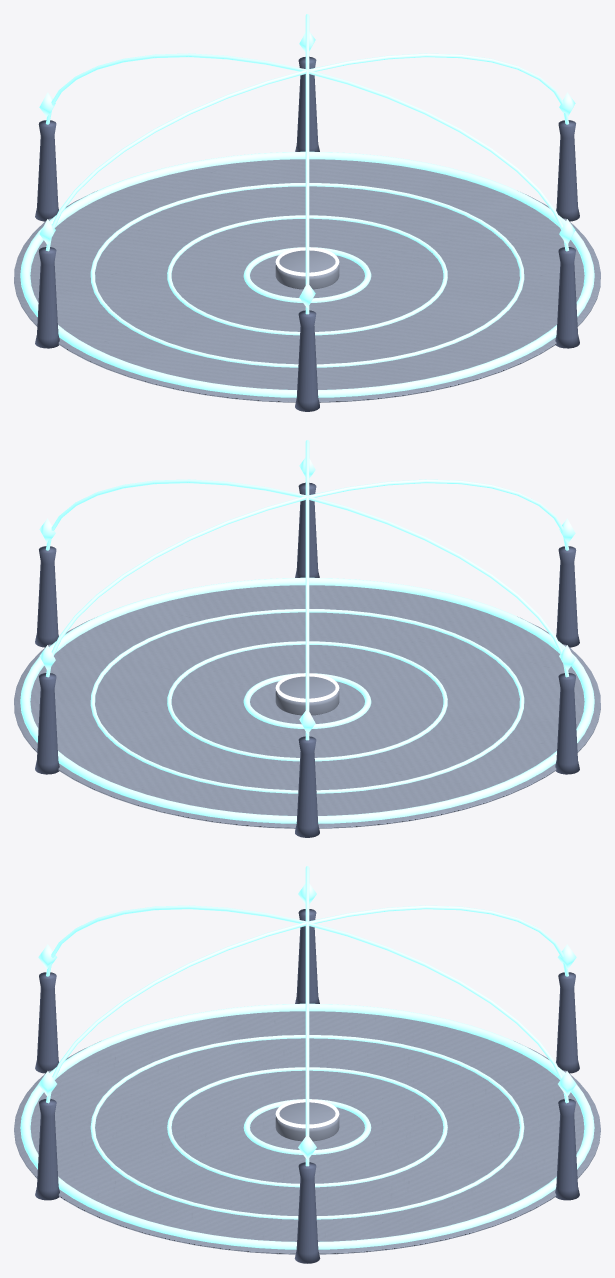
The model's file is Capture-Zone-Exact-Mesh-v2.0.0.glb.
3 renders of one model, top to bottom at view 1: azimuth 30°, elevation 25°; view 2: azimuth 150°, elevation 25°; view 3: azimuth 270°, elevation 25°, orthographic.
Parts seen in each view (by area): view 1: zoneDeck, zoneRing0, zoneRing1, zoneRing2, pylon1, pylon0, pylon2, pylon5, pylon3, receptor, pylon4, zoneRing3 (+6 smaller); view 2: zoneDeck, zoneRing0, zoneRing1, zoneRing2, pylon5, pylon0, pylon4, pylon1, pylon3, receptor, pylon2, zoneRing3 (+6 smaller); view 3: zoneDeck, zoneRing0, zoneRing1, zoneRing2, pylon3, pylon2, pylon4, pylon1, pylon5, receptor, pylon0, zoneRing3 (+6 smaller).
Part boxes in pixels (x1,y1,x2,y2): zoneDeck: (14,159,600,402); zoneRing0: (20,151,594,397); zoneRing1: (90,183,524,367); zoneRing2: (167,215,447,335); pylon1: (295,310,319,411); pylon0: (35,247,59,348); pylon2: (555,247,579,348); pylon5: (35,120,58,221); pylon3: (556,120,579,221); receptor: (275,250,339,289); pylon4: (295,56,319,151); zoneRing3: (243,247,371,302); zoneDeck: (14,585,600,828); zoneRing0: (20,577,594,823); zoneRing1: (90,609,524,793); zoneRing2: (167,641,447,761); pylon5: (295,736,319,837); pylon0: (555,673,579,774); pylon4: (35,673,59,774); pylon1: (556,546,579,647); pylon3: (35,546,58,647); receptor: (275,676,339,715); pylon2: (295,482,319,577); zoneRing3: (243,673,371,728); zoneDeck: (14,1011,600,1254); zoneRing0: (20,1003,594,1249); zoneRing1: (90,1035,524,1219); zoneRing2: (167,1067,447,1187); pylon3: (294,1162,320,1263); pylon2: (35,1099,59,1200); pylon4: (555,1099,579,1200); pylon1: (35,972,58,1073); pylon5: (556,972,579,1073); receptor: (275,1102,339,1141); pylon0: (295,909,319,1003); zoneRing3: (243,1099,371,1154).
Bounding box in the file's own units: 9.8 × 3.64 × 9.2.
4 materials, 2 textured.
